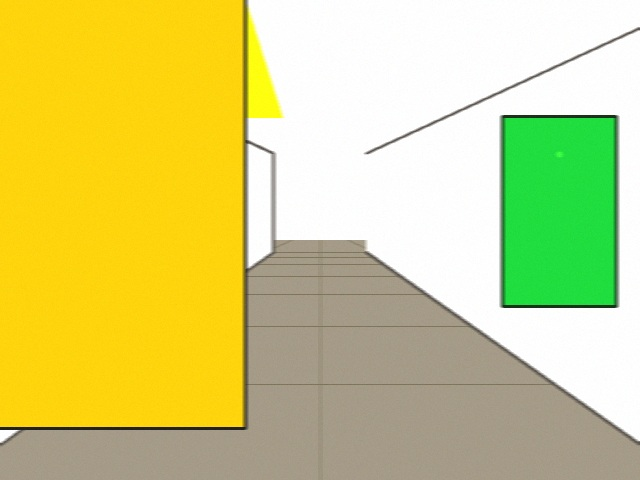charging_station: (502, 116, 616, 306)
forklift: (0, 0, 282, 428)
obstacle: (169, 190, 226, 289)
